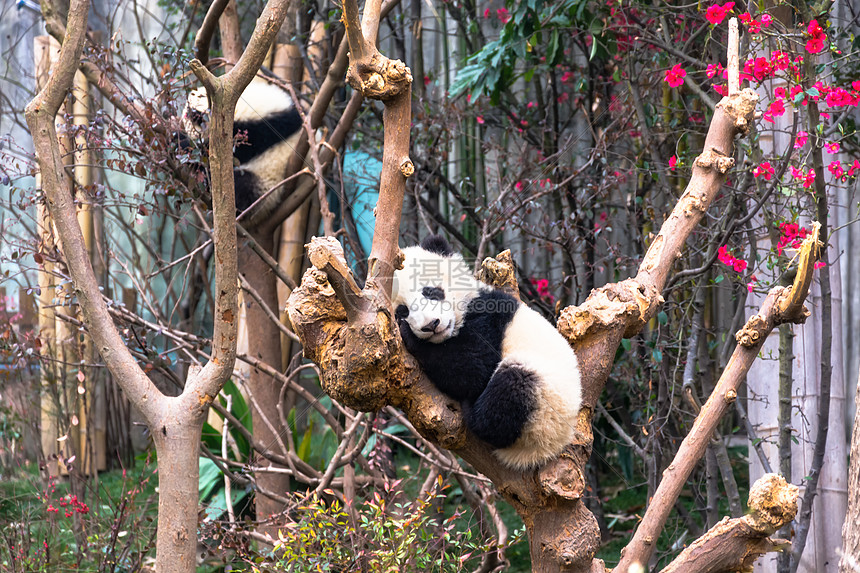panda: (375, 223, 584, 468), (152, 69, 325, 241)
